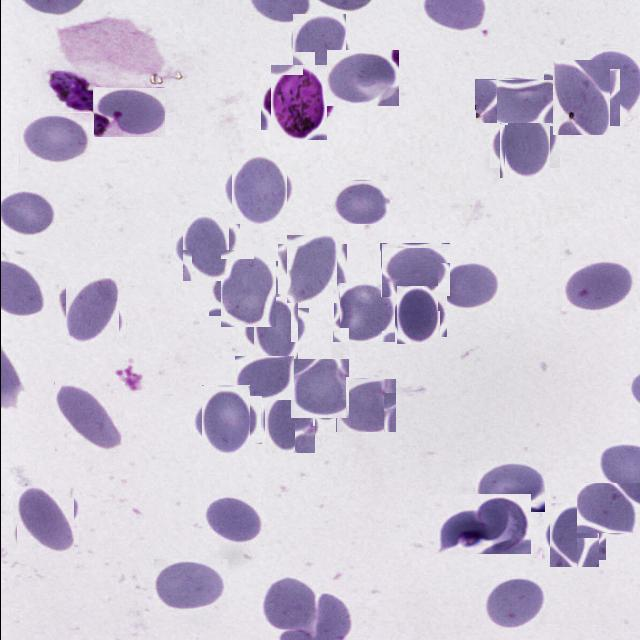gametocyte: (265, 69, 331, 135)
red blood cell: (434, 494, 530, 554), (54, 382, 124, 451), (548, 64, 614, 131), (214, 256, 280, 322), (326, 50, 398, 106), (227, 157, 290, 220), (474, 79, 564, 123), (560, 259, 636, 311), (153, 559, 227, 612), (14, 488, 76, 550), (380, 243, 450, 297), (18, 112, 90, 164), (332, 282, 394, 342), (282, 239, 342, 299), (62, 282, 122, 342), (92, 87, 164, 137), (196, 390, 256, 450), (494, 113, 554, 173), (474, 461, 544, 512), (289, 358, 348, 418), (481, 576, 545, 630), (258, 575, 317, 633), (290, 16, 348, 74), (544, 506, 602, 564), (176, 218, 233, 276), (260, 394, 318, 450), (335, 378, 395, 432), (576, 483, 640, 533), (200, 495, 262, 546), (246, 302, 302, 358), (437, 264, 498, 312), (234, 356, 293, 401), (332, 180, 389, 224), (392, 290, 442, 340)
